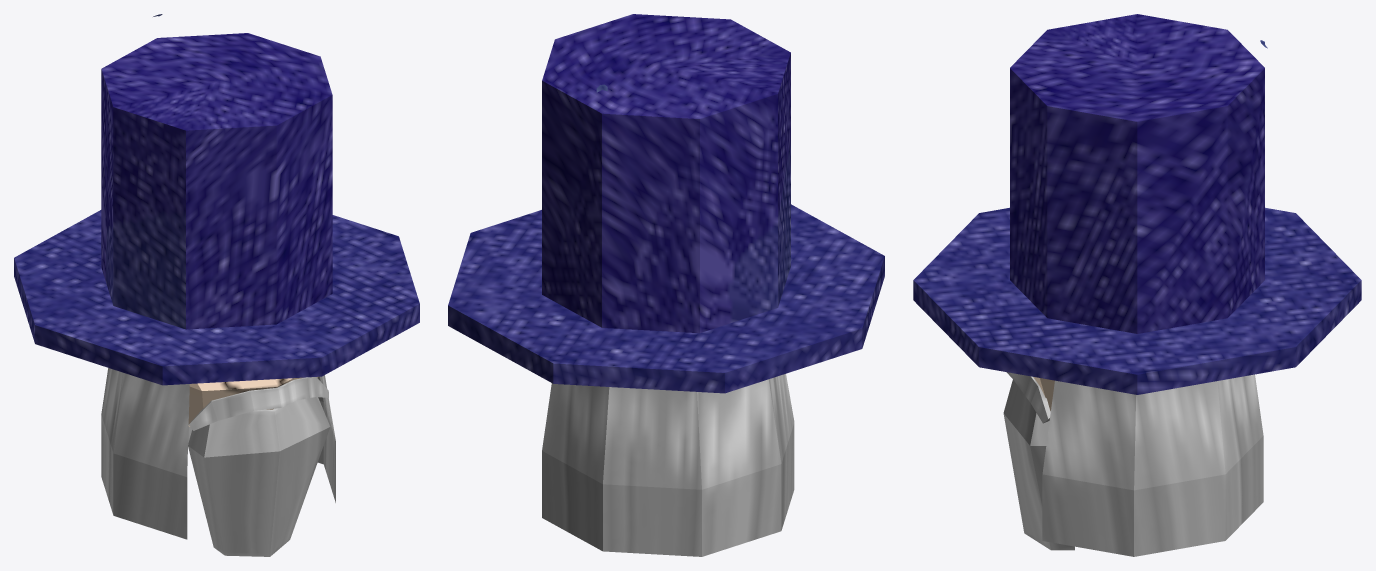
File: head_top_hat.fbx
3 renders of one model, left to right at view 1: azimuth 30°, elevation 25°; view 2: azimuth 150°, elevation 25°; view 3: azimuth 270°, elevation 25°, orthographic. The views are drawn at different scales.
Visible parts, largest first — view 1: hat, beard, hair, mustache, head; view 2: hat, hair; view 3: hat, hair, beard, mustache.
Part boxes in pixels (left/top/right/bottom): hat: left=14, top=14, right=419, bottom=385; beard: left=188, top=397, right=330, bottom=556; hair: left=101, top=368, right=335, bottom=539; mustache: left=189, top=377, right=328, bottom=430; head: left=188, top=377, right=317, bottom=426; hat: left=448, top=14, right=884, bottom=393; hair: left=542, top=374, right=794, bottom=556; hat: left=913, top=14, right=1361, bottom=394; hair: left=1042, top=374, right=1263, bottom=556; beard: left=1003, top=379, right=1074, bottom=550; mustache: left=1006, top=372, right=1050, bottom=423.
Size of the model in its own units: 3.33 by 4.04 by 3.33.
2 materials, 1 textured.
